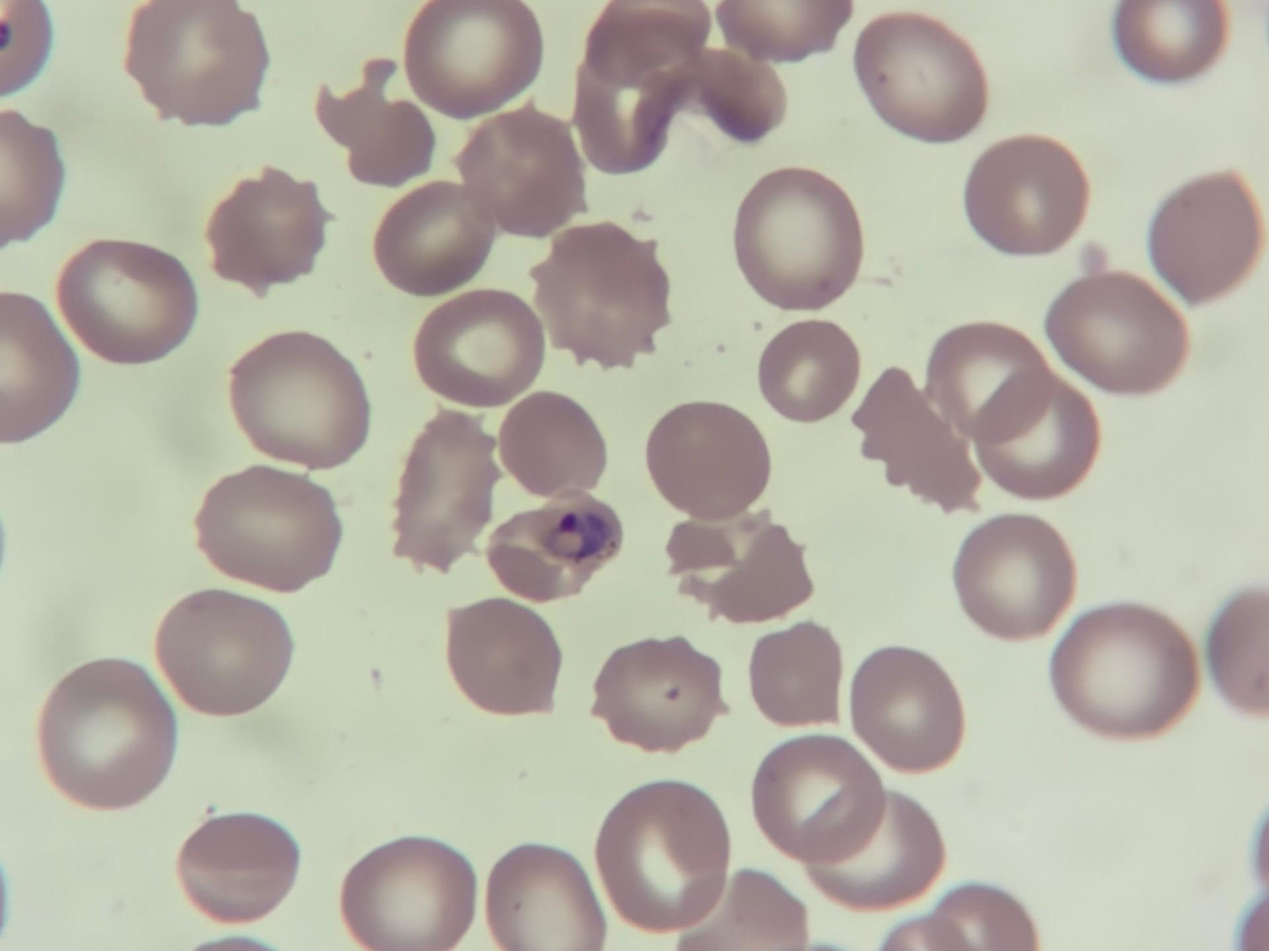Infected: (491, 492, 625, 603)
Uninfected: (851, 369, 993, 517), (41, 658, 178, 805), (532, 223, 668, 370), (230, 332, 368, 469), (599, 785, 725, 932), (395, 403, 502, 576), (1054, 607, 1198, 734), (129, 0, 269, 130), (737, 169, 864, 309), (197, 468, 339, 592), (859, 10, 988, 145), (58, 242, 195, 368), (405, 0, 545, 120), (1049, 276, 1188, 394), (666, 514, 811, 627), (160, 592, 290, 718), (808, 785, 940, 908), (464, 104, 585, 237), (758, 739, 881, 867), (210, 164, 329, 296), (416, 291, 548, 410), (593, 636, 728, 752), (1152, 171, 1264, 308), (978, 372, 1099, 497), (345, 838, 478, 951), (955, 517, 1077, 640), (646, 402, 773, 520), (446, 595, 562, 719), (373, 182, 495, 299), (968, 136, 1084, 255), (851, 648, 964, 770), (183, 815, 301, 923), (487, 846, 605, 951), (0, 293, 76, 454), (934, 318, 1042, 430), (588, 0, 714, 93), (496, 395, 607, 496), (757, 323, 860, 424), (752, 620, 841, 731), (1117, 0, 1227, 82), (717, 0, 852, 62)
